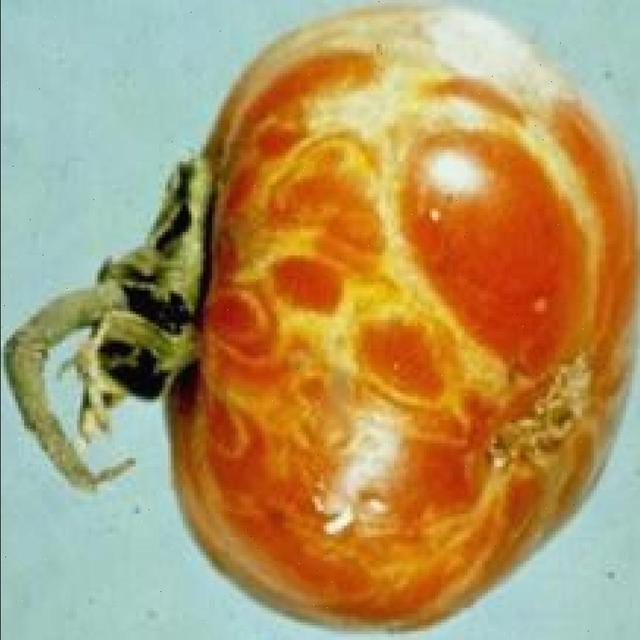Spotted wilt Virus Fruit: (109, 4, 427, 421)
